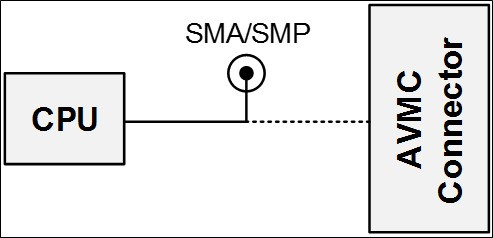circle: (225, 52, 273, 97)
rectangle: (364, 1, 493, 236), (1, 65, 132, 170)
